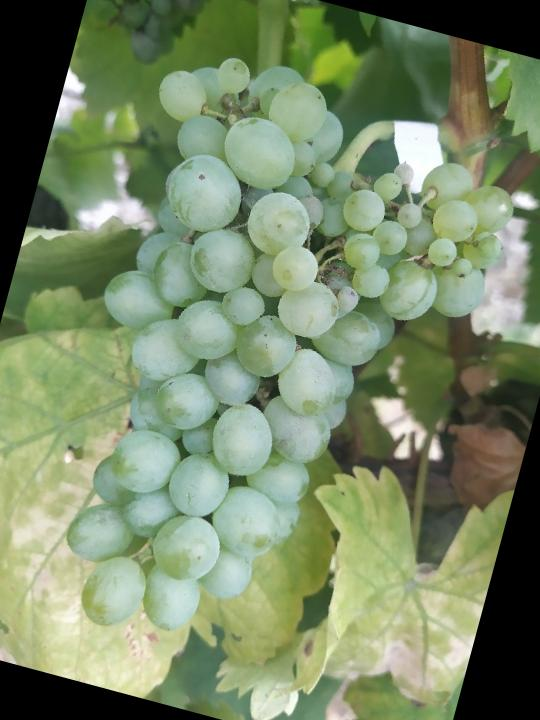grape: (17, 32, 539, 706)
